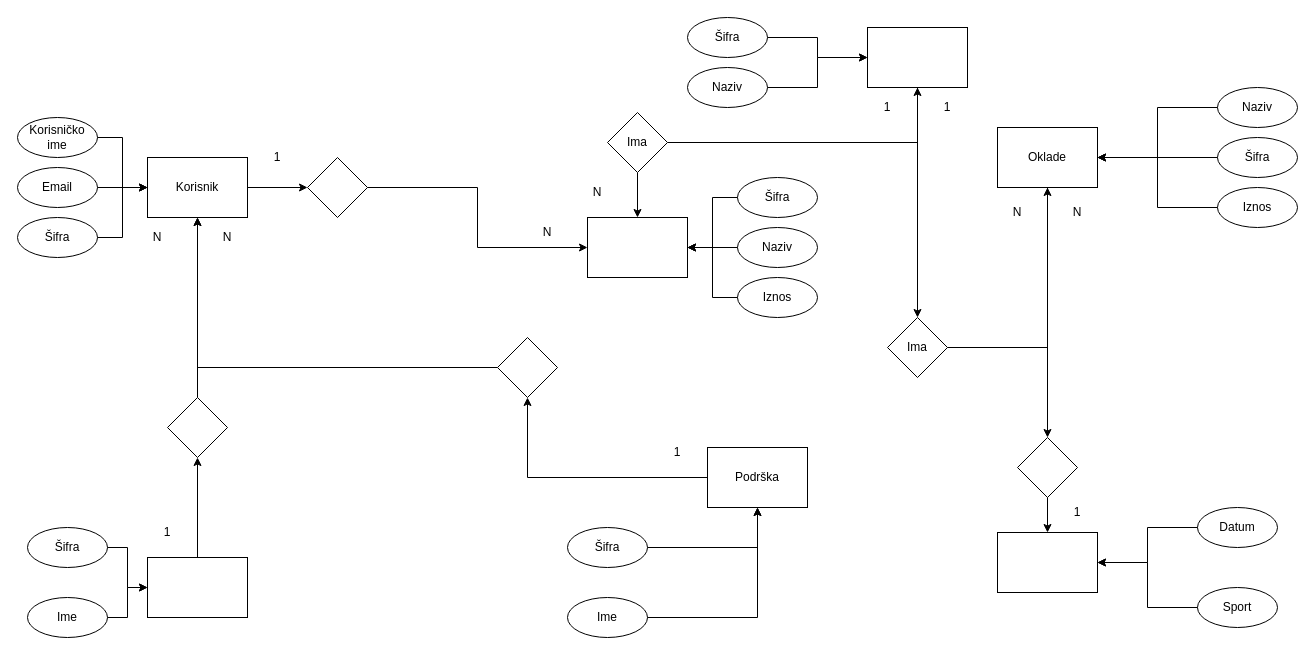
Some shapes in this 1315 by 655 pixel diagram are drawn without their labels. The box of each missing label's shape, as (x1, y1, x2, y2) in pixels:
Admin: (146, 556, 248, 618)
Globalni Provider Kvote: (866, 26, 968, 88)
Kvote: (586, 216, 688, 278)
Odigrava: (306, 156, 368, 218)
Podržava: (496, 336, 558, 398)
Povijest: (1016, 436, 1078, 498)
Povijest oklada: (996, 532, 1098, 592)
Upravlja: (166, 396, 228, 458)
